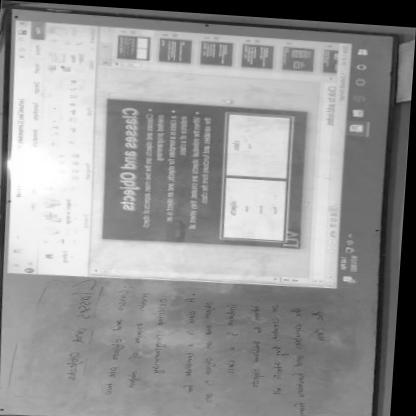Handwritten text: (61, 271, 106, 388), (96, 284, 140, 400), (286, 300, 319, 416), (127, 286, 158, 391), (179, 288, 206, 393), (150, 292, 180, 377), (269, 297, 292, 402), (246, 298, 271, 390), (203, 296, 224, 401), (222, 294, 244, 383), (311, 301, 332, 342)
Whiteboard: (0, 6, 397, 416)
